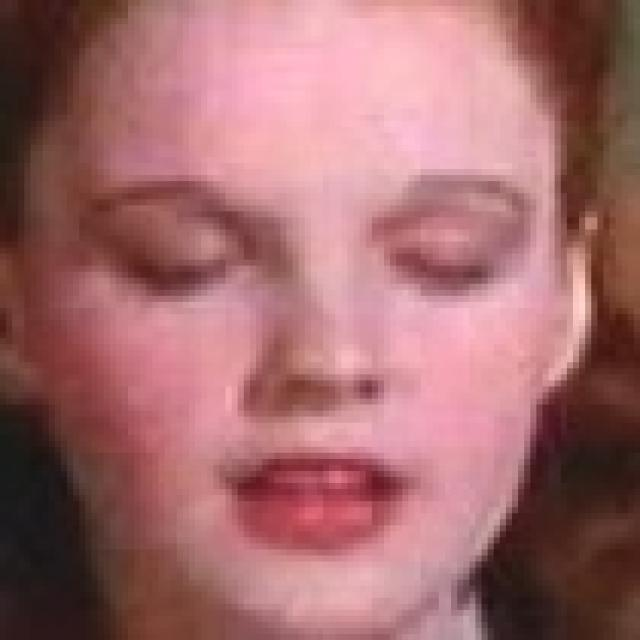Eyeclosed: (124, 246, 230, 301), (388, 232, 484, 292)
